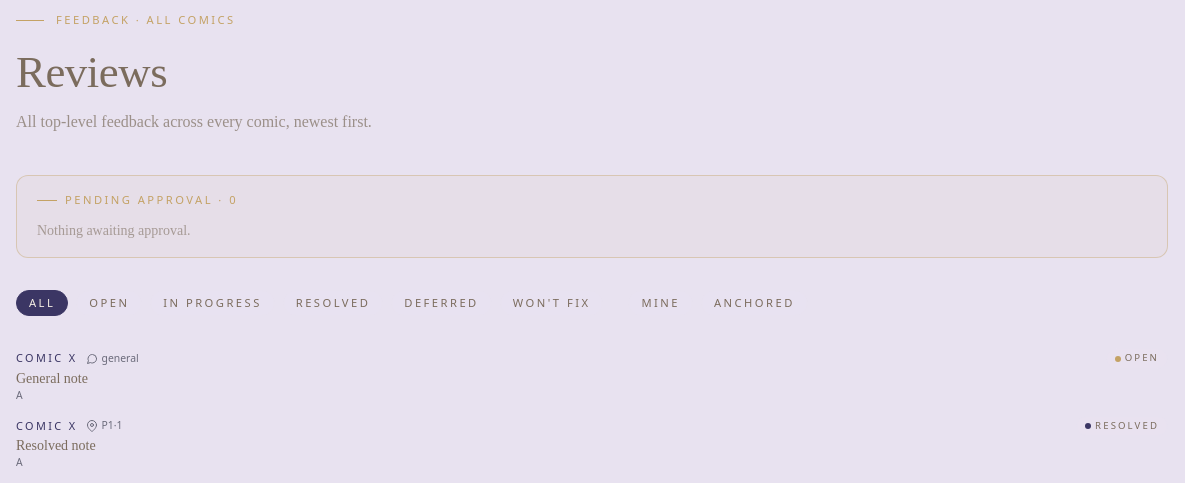
ReviewsPageShell › Open filter shows only open roots
The width and height of the screenshot is (1185, 483).
Click the button "Open": point(109, 303) left=76, top=290, right=142, bottom=316
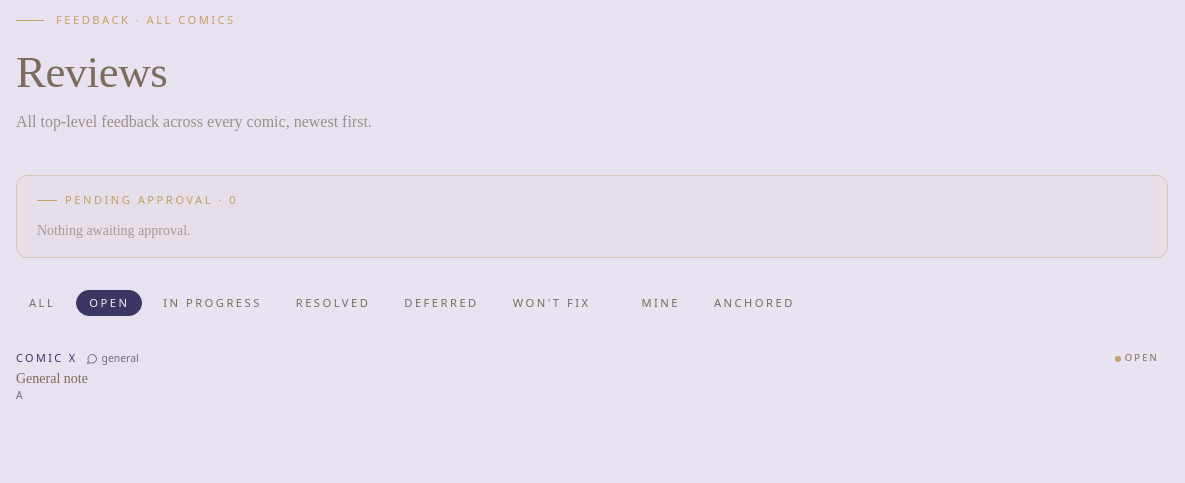
Expected: the text "General note" is shown, left=16, top=371, right=88, bottom=386
Expected: the link "Resolved note" is gone
